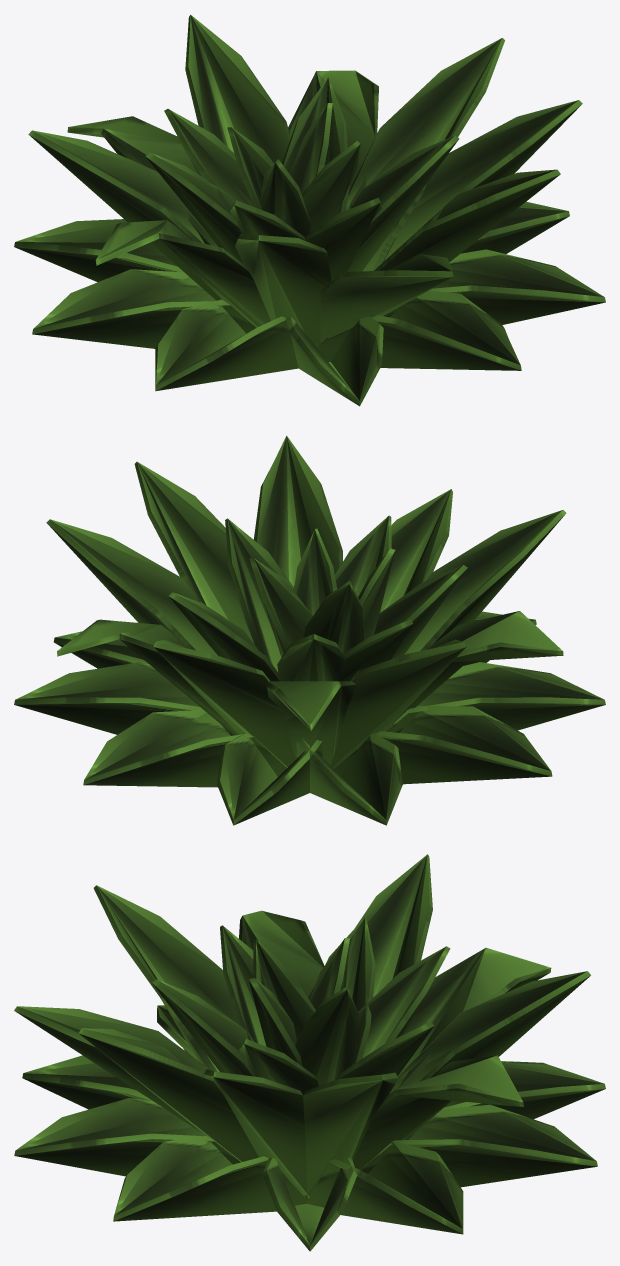
File: Bush_3.fbx
The picture shows the model from 3 angles, top to bottom: view 1: azimuth 30°, elevation 25°; view 2: azimuth 150°, elevation 25°; view 3: azimuth 270°, elevation 25°; orthographic projection. The views are drawn at different scales.
Visible parts, largest first — view 1: Bush_3; view 2: Bush_3; view 3: Bush_3.
Boxes of the visible parts, x1=… form: Bush_3: x1=14, y1=14, x2=605, y2=406; Bush_3: x1=14, y1=435, x2=605, y2=825; Bush_3: x1=14, y1=854, x2=605, y2=1251.
Size of the model in its own units: 41.09 by 17.87 by 39.78.
